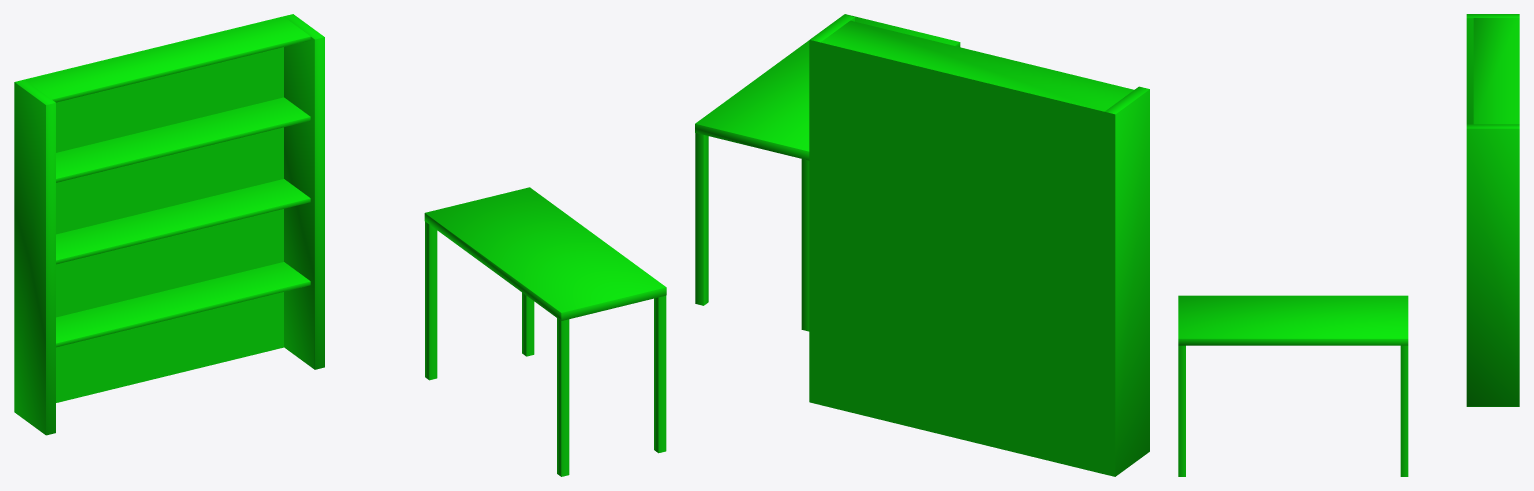
Rendered from AST_1_Bureau_Etagere.fbx.
3 views of the same model, side by side, from view 1: azimuth 30°, elevation 25°; view 2: azimuth 150°, elevation 25°; view 3: azimuth 270°, elevation 25° (orthographic). The views are drawn at different scales.
Visible parts, largest first — view 1: AST_1_Etagere, AST_1_Bureau; view 2: AST_1_Etagere, AST_1_Bureau; view 3: AST_1_Etagere, AST_1_Bureau.
Boxes of the visible parts, left/top/right/bottom form: AST_1_Etagere: left=14, top=14, right=324, bottom=435; AST_1_Bureau: left=424, top=187, right=666, bottom=476; AST_1_Etagere: left=809, top=14, right=1149, bottom=476; AST_1_Bureau: left=695, top=14, right=960, bottom=331; AST_1_Etagere: left=1466, top=14, right=1519, bottom=406; AST_1_Bureau: left=1178, top=295, right=1408, bottom=476.
Size of the model in its own units: 171 by 120 by 133.
